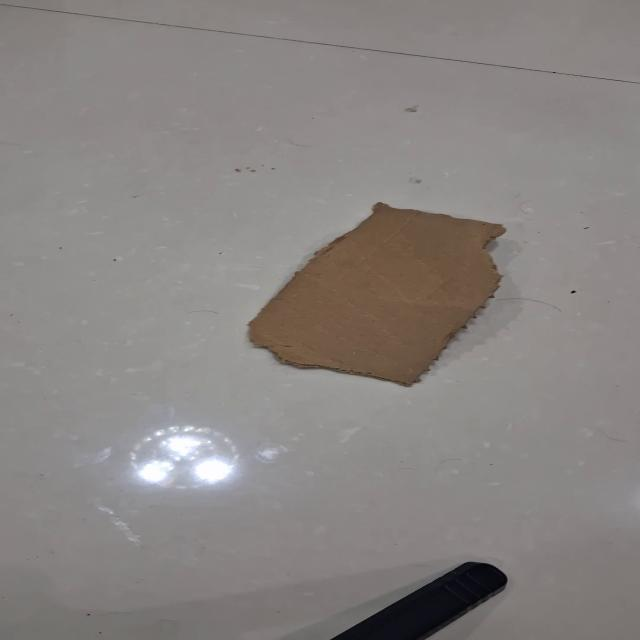paper: (244, 201, 506, 387)
